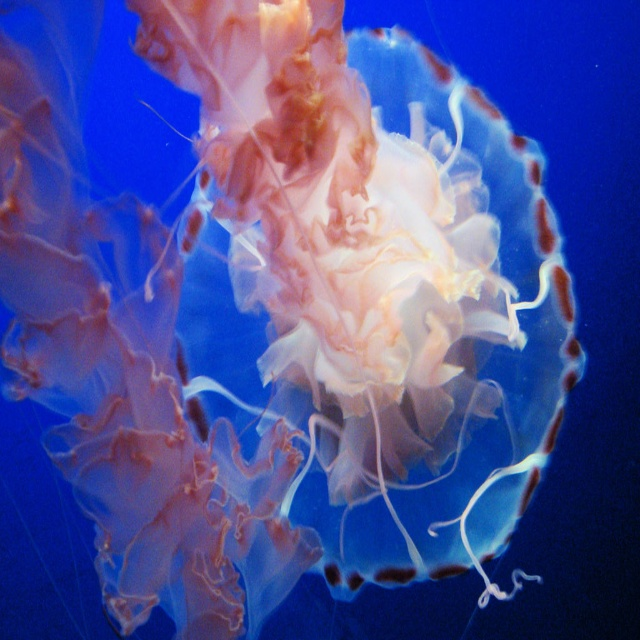Jellyfish: (14, 6, 585, 635)
